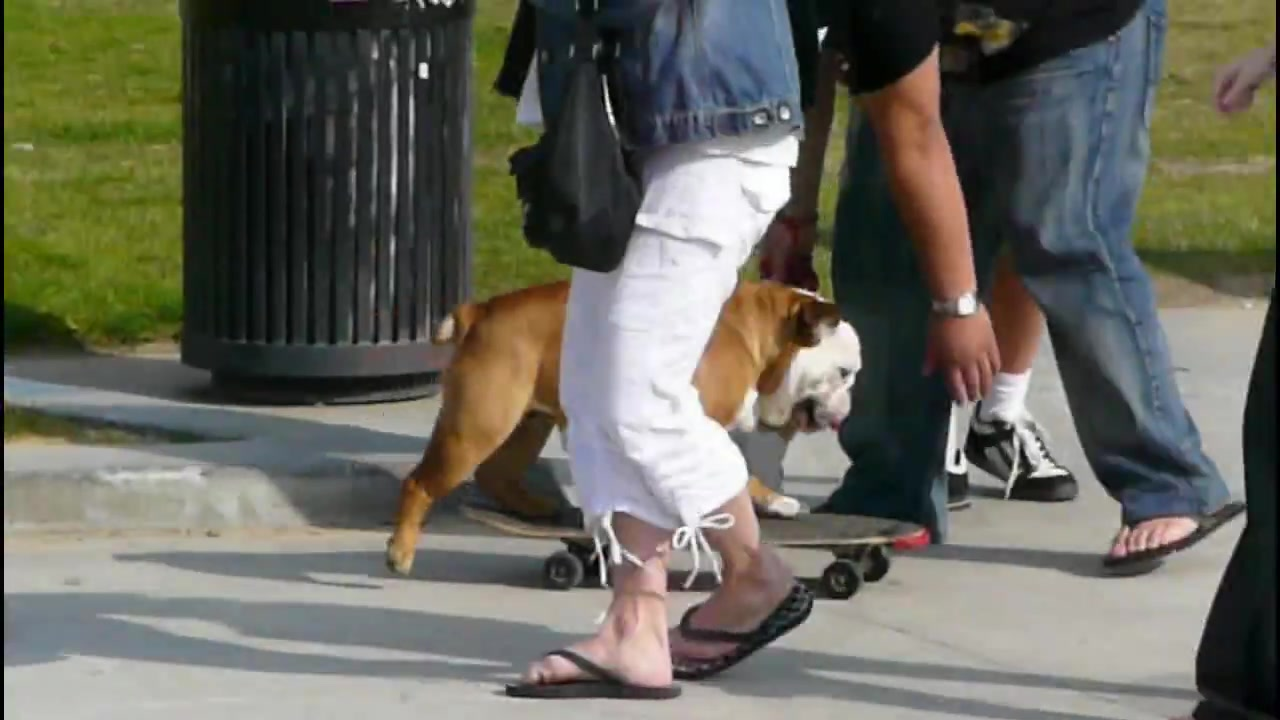dog: (384, 275, 871, 585)
